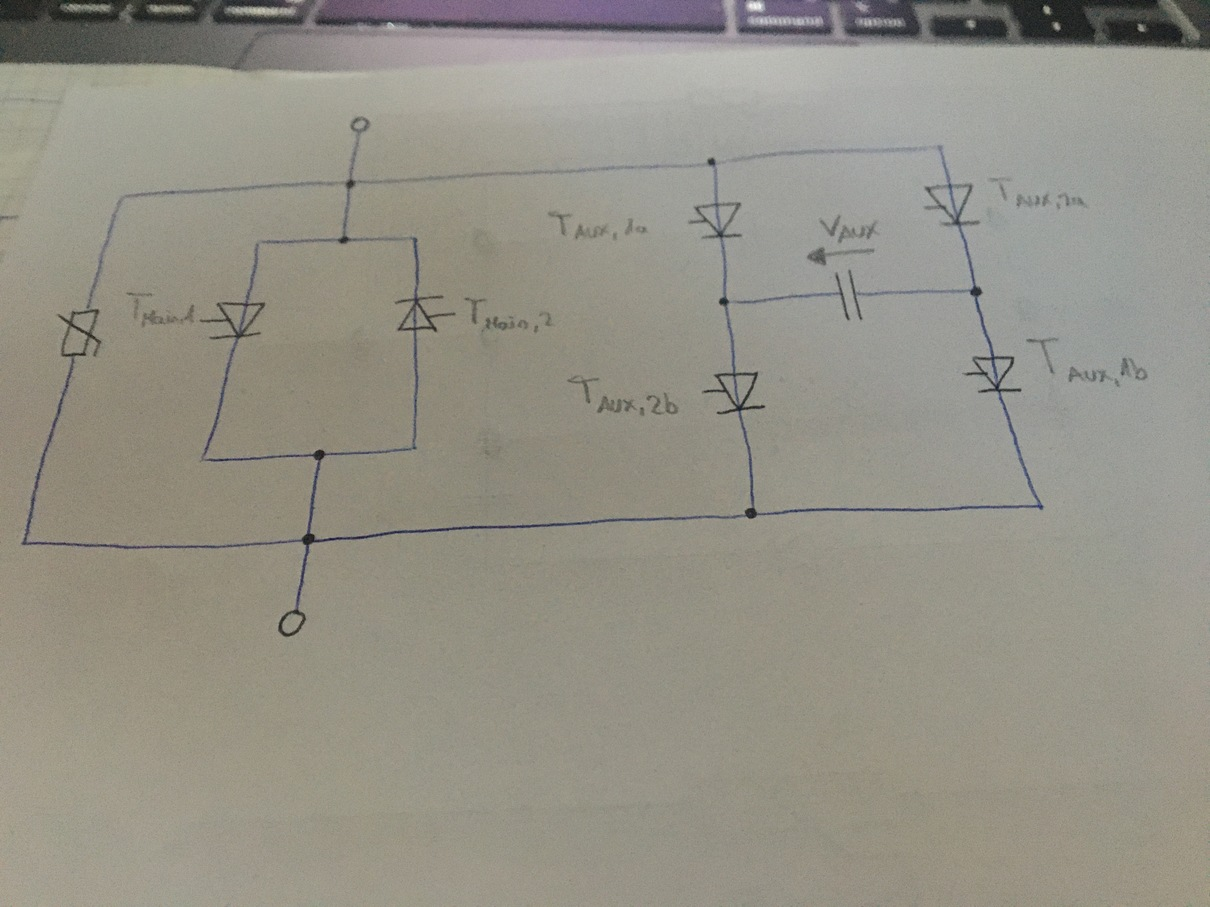capacitor.unpolarized: (833, 267, 867, 323)
junction: (742, 506, 761, 522), (717, 295, 736, 310), (967, 284, 986, 299), (251, 236, 269, 251), (115, 191, 131, 207), (311, 447, 327, 463), (300, 532, 316, 548), (705, 155, 723, 169), (197, 450, 212, 466), (342, 177, 358, 191), (1033, 500, 1048, 513), (17, 537, 31, 550), (336, 234, 351, 246), (933, 141, 947, 153), (409, 233, 421, 245), (408, 441, 420, 453)
terminal: (276, 606, 307, 639), (349, 114, 370, 134)
text: (1024, 332, 1151, 391), (564, 371, 684, 421), (460, 293, 557, 338), (982, 173, 1091, 212), (543, 207, 651, 244), (123, 288, 197, 332), (816, 212, 881, 245)
thyristor: (923, 182, 982, 227), (208, 300, 268, 342), (712, 370, 766, 416), (970, 354, 1023, 395), (393, 293, 445, 334), (693, 201, 745, 240)
varistor: (53, 304, 104, 363)
